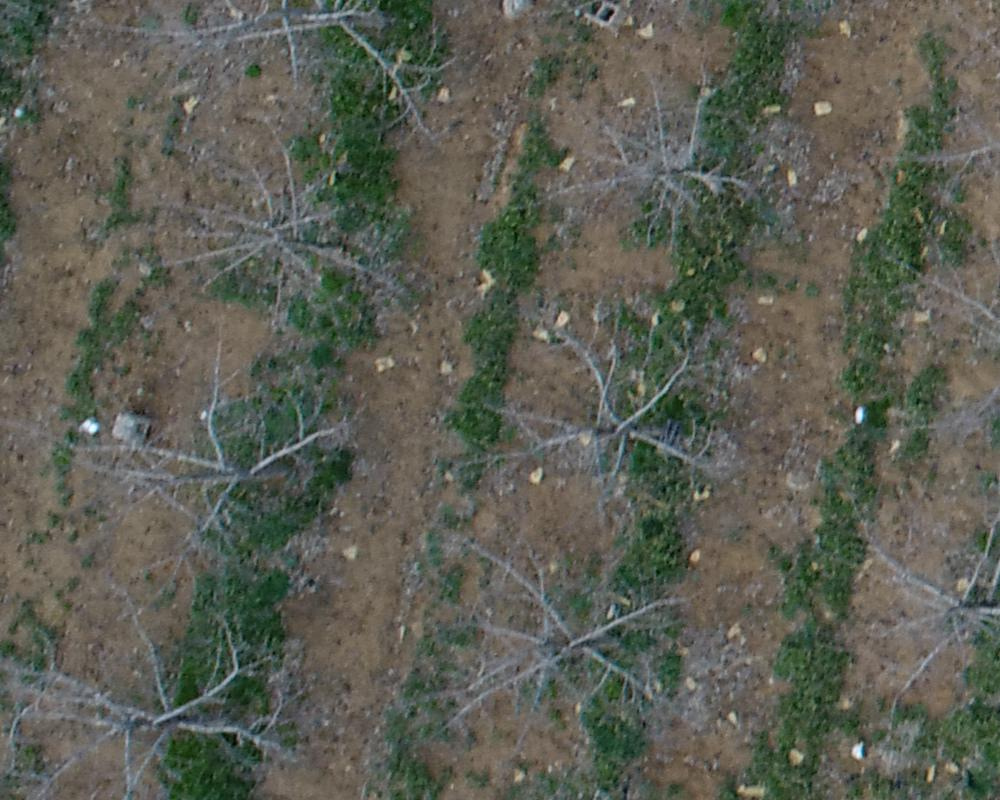apple: (452, 292, 796, 535), (430, 513, 709, 763), (67, 348, 363, 581), (15, 607, 296, 790), (533, 53, 785, 257), (154, 122, 396, 333), (141, 10, 483, 150), (843, 474, 990, 683)
